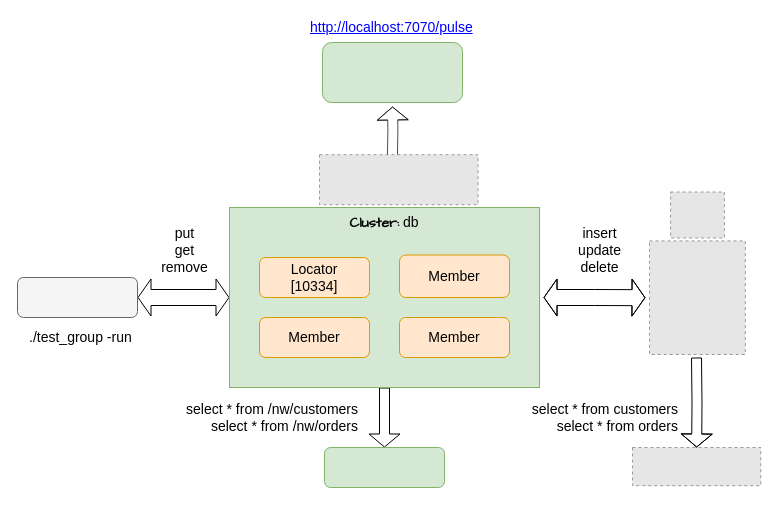
The diagram is 779 pixels wide and 505 high, and some of its shapes have lost their labels. Grey dashed boxes stand in for pictures. The shapes that lost their labels are listed below. From the top down, each one's centre as x and y in pixels, then its label:
(x=392, y=72): Geode Pulse
(x=77, y=297): App: perf_test
(x=384, y=467): gfsh
